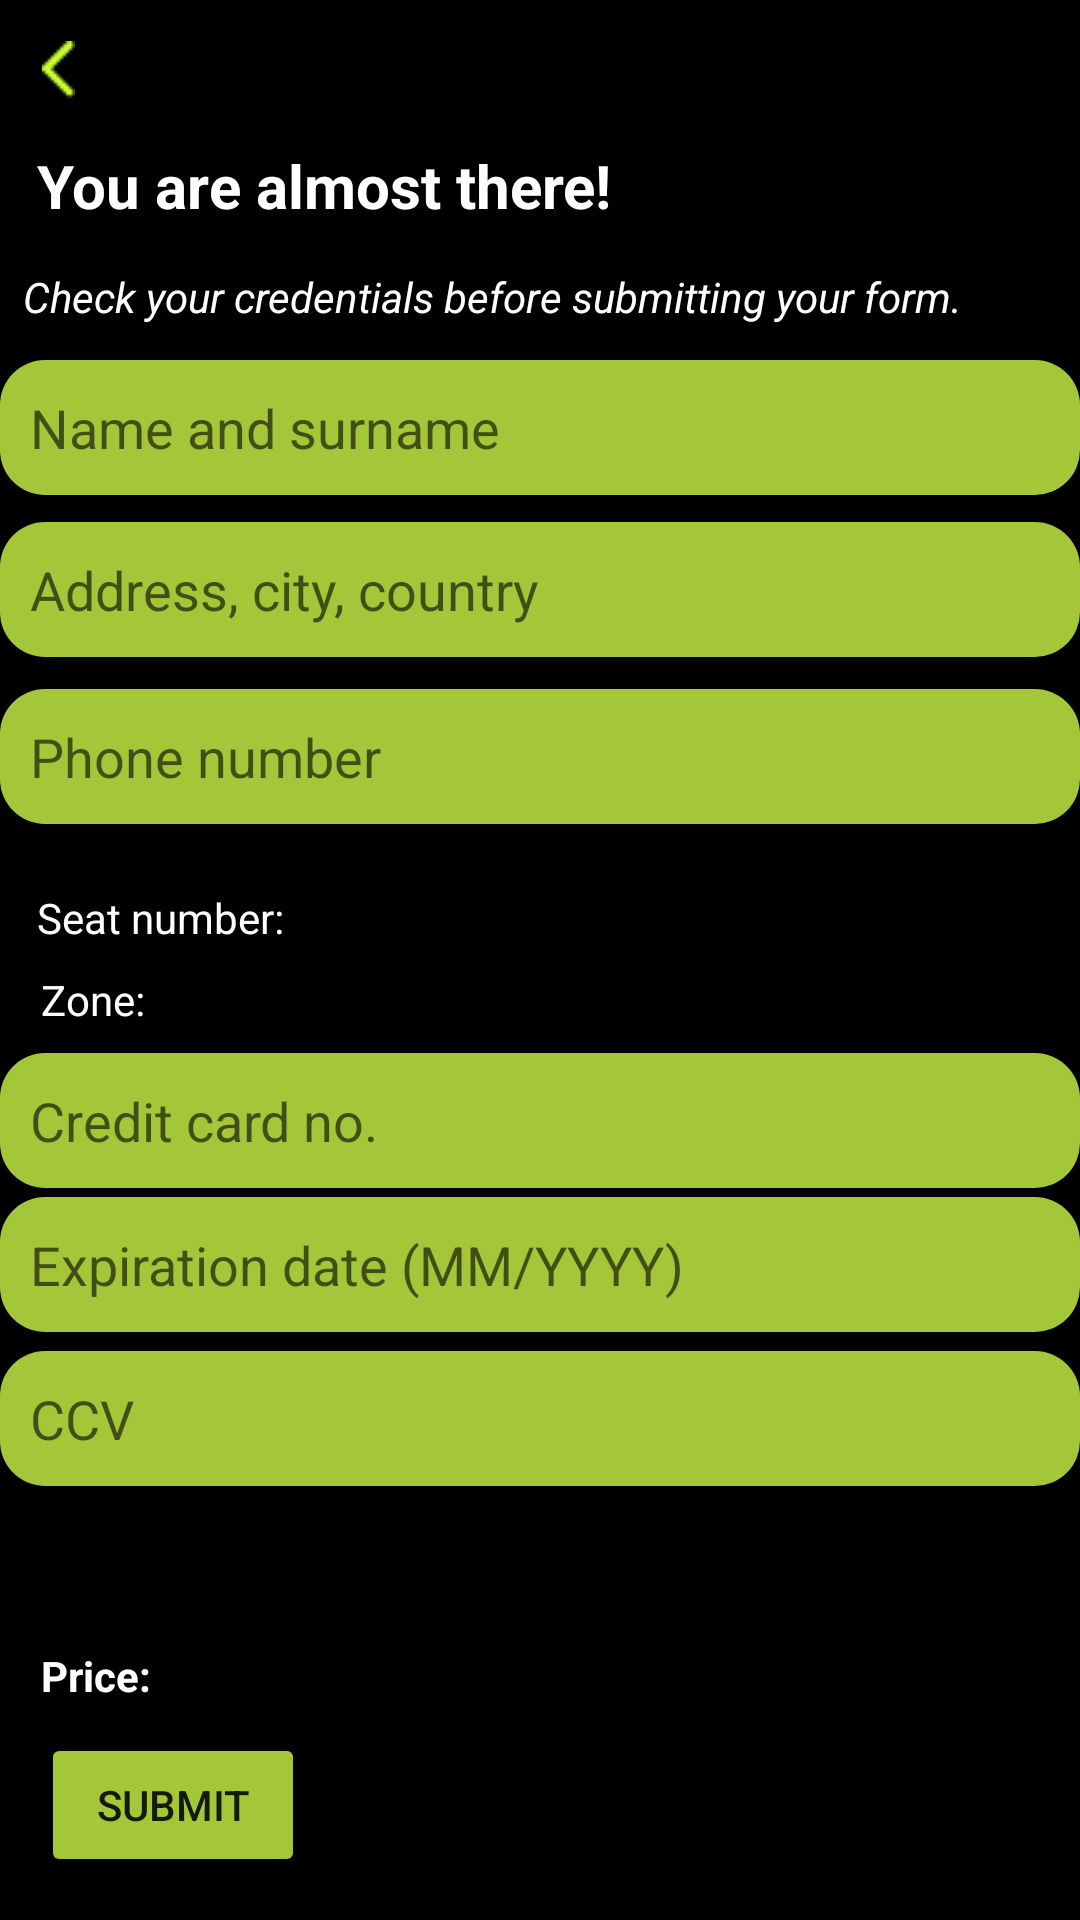

Where icons sit on this 1080×1920 app screen, as (x1, y1, x2, y2):
rikvercicon: (42, 41, 75, 98)
